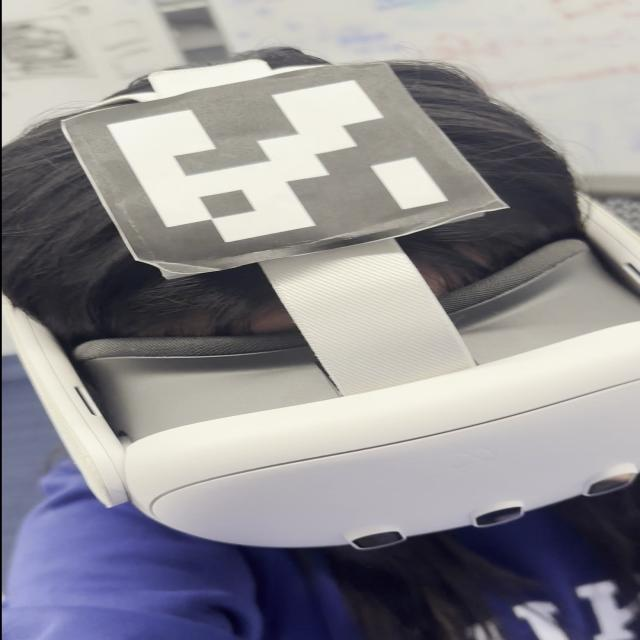Aruco Marker: (57, 58, 512, 279)
VR Headset: (3, 59, 638, 550)
